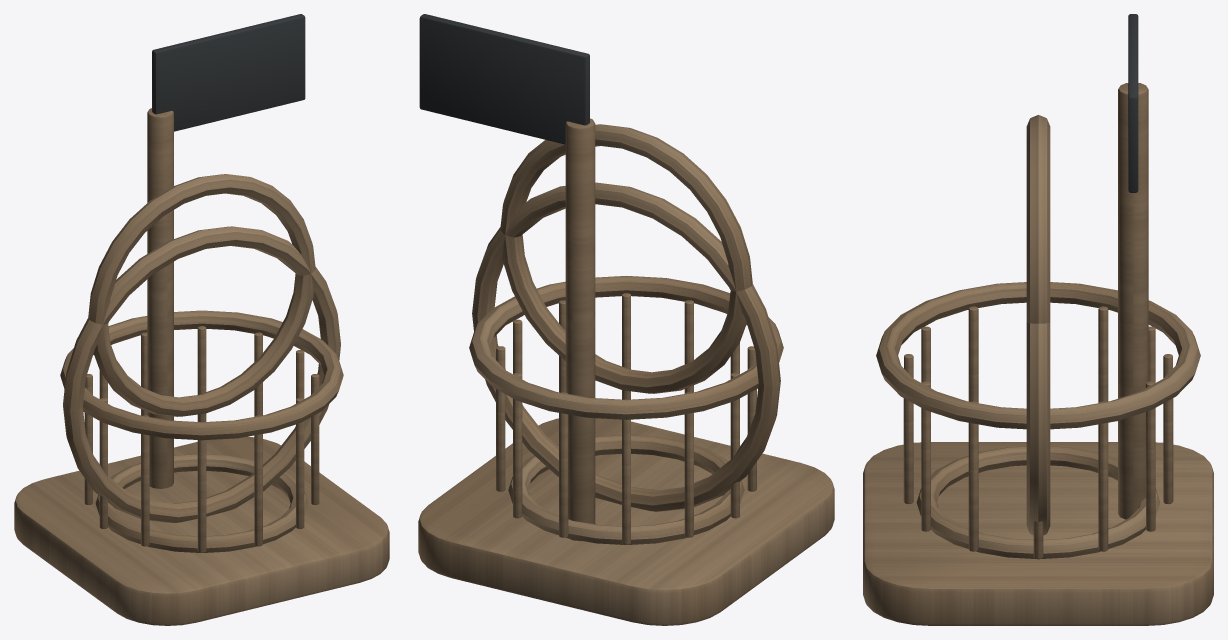
Rendered from practice_basket_premium.glb.
3 renders of one model, left to right at view 1: azimuth 30°, elevation 25°; view 2: azimuth 150°, elevation 25°; view 3: azimuth 270°, elevation 25°, orthographic. The views are drawn at different scales.
Parts seen in each view (by area): view 1: PracticeBasket_Base, PracticeBasket_TargetRing_1, PracticeBasket_TargetRing_2, PracticeBasket_Flag, PracticeBasket_Collector_TopRing, PracticeBasket_Mast, PracticeBasket_Collector_BottomRing, PracticeBasket_Collector_Wire_9, PracticeBasket_Collector_Wire_10, PracticeBasket_Collector_Wire_8, PracticeBasket_Collector_Wire_11, PracticeBasket_Collector_Wire_12 (+3 smaller); view 2: PracticeBasket_Base, PracticeBasket_Flag, PracticeBasket_TargetRing_1, PracticeBasket_TargetRing_2, PracticeBasket_Mast, PracticeBasket_Collector_TopRing, PracticeBasket_Collector_BottomRing, PracticeBasket_Collector_Wire_6, PracticeBasket_Collector_Wire_4, PracticeBasket_Collector_Wire_3, PracticeBasket_Collector_Wire_2, PracticeBasket_Collector_Wire_5 (+4 smaller); view 3: PracticeBasket_Base, PracticeBasket_Collector_TopRing, PracticeBasket_Mast, PracticeBasket_Collector_BottomRing, PracticeBasket_TargetRing_1, PracticeBasket_TargetRing_2, PracticeBasket_Flag, PracticeBasket_Collector_Wire_12, PracticeBasket_Collector_Wire_2, PracticeBasket_Collector_Wire_10, PracticeBasket_Collector_Wire_4, PracticeBasket_Collector_Wire_11 (+4 smaller).
Boxes of the visible parts, left/top/right/bottom form: PracticeBasket_Base: left=14, top=436, right=389, bottom=625; PracticeBasket_TargetRing_1: left=63, top=226, right=340, bottom=522; PracticeBasket_TargetRing_2: left=88, top=174, right=315, bottom=416; PracticeBasket_Flag: left=152, top=14, right=305, bottom=131; PracticeBasket_Collector_TopRing: left=60, top=310, right=343, bottom=440; PracticeBasket_Mast: left=147, top=108, right=173, bottom=488; PracticeBasket_Collector_BottomRing: left=95, top=454, right=308, bottom=552; PracticeBasket_Collector_Wire_9: left=197, top=421, right=206, bottom=552; PracticeBasket_Collector_Wire_10: left=254, top=415, right=262, bottom=546; PracticeBasket_Collector_Wire_8: left=141, top=415, right=149, bottom=546; PracticeBasket_Collector_Wire_11: left=296, top=398, right=304, bottom=528; PracticeBasket_Collector_Wire_12: left=311, top=374, right=319, bottom=504; PracticeBasket_Base: left=418, top=418, right=834, bottom=625; PracticeBasket_Flag: left=419, top=14, right=589, bottom=144; PracticeBasket_TargetRing_1: left=472, top=182, right=780, bottom=511; PracticeBasket_TargetRing_2: left=500, top=124, right=752, bottom=393; PracticeBasket_Mast: left=565, top=118, right=595, bottom=541; PracticeBasket_Collector_TopRing: left=469, top=276, right=783, bottom=419; PracticeBasket_Collector_BottomRing: left=508, top=435, right=744, bottom=544; PracticeBasket_Collector_Wire_6: left=684, top=392, right=693, bottom=537; PracticeBasket_Collector_Wire_4: left=559, top=392, right=568, bottom=537; PracticeBasket_Collector_Wire_3: left=513, top=372, right=522, bottom=518; PracticeBasket_Collector_Wire_2: left=496, top=346, right=505, bottom=491; PracticeBasket_Collector_Wire_5: left=622, top=399, right=630, bottom=544; PracticeBasket_Base: left=863, top=442, right=1213, bottom=625; PracticeBasket_Collector_TopRing: left=876, top=282, right=1200, bottom=429; PracticeBasket_Mast: left=1118, top=83, right=1148, bottom=519; PracticeBasket_Collector_BottomRing: left=916, top=446, right=1160, bottom=559; PracticeBasket_TargetRing_1: left=1026, top=322, right=1050, bottom=535; PracticeBasket_TargetRing_2: left=1026, top=115, right=1050, bottom=323; PracticeBasket_Flag: left=1128, top=14, right=1138, bottom=192; PracticeBasket_Collector_Wire_12: left=968, top=401, right=978, bottom=551; PracticeBasket_Collector_Wire_2: left=1098, top=401, right=1108, bottom=551; PracticeBasket_Collector_Wire_10: left=903, top=354, right=913, bottom=504; PracticeBasket_Collector_Wire_4: left=1163, top=354, right=1173, bottom=504; PracticeBasket_Collector_Wire_11: left=921, top=381, right=930, bottom=531.
Size of what is drawn, in the model's own units: 0.4396 by 0.6993 by 0.4144.
2 materials, 1 textured.
